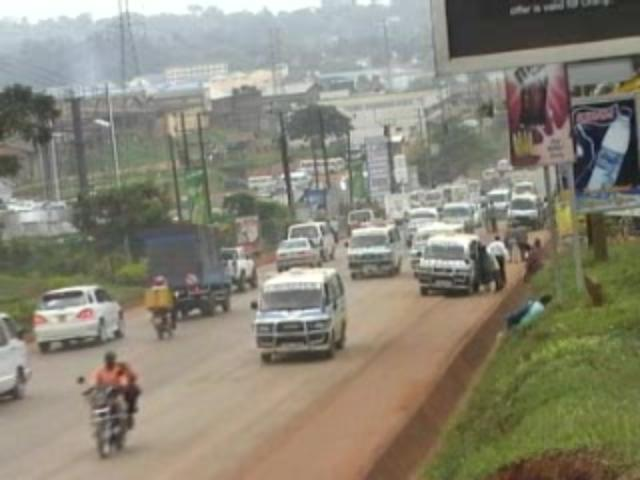car: (32, 285, 123, 352), (0, 313, 32, 400), (275, 236, 320, 271), (226, 243, 259, 287)
motorcycle: (74, 362, 136, 459), (144, 275, 176, 336)
truck: (144, 233, 231, 313)
van: (249, 266, 341, 362), (417, 235, 473, 295), (343, 225, 401, 277), (409, 222, 453, 270), (287, 220, 337, 262), (508, 192, 544, 229), (404, 207, 440, 243), (440, 201, 480, 231), (484, 188, 513, 222)
